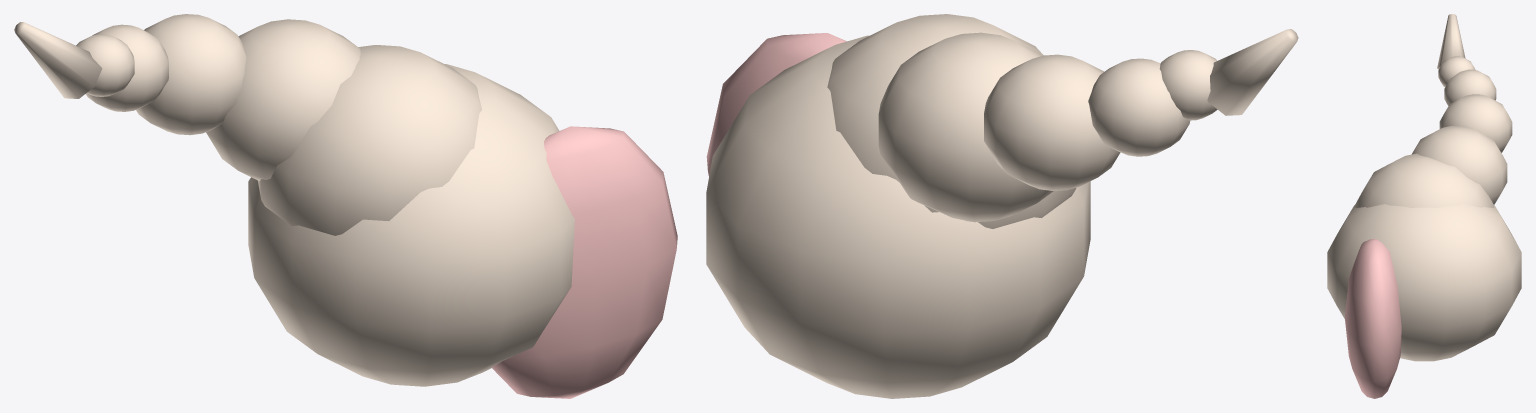
Rendered from shell.glb.
3 views of the same model, side by side, from view 1: azimuth 30°, elevation 25°; view 2: azimuth 150°, elevation 25°; view 3: azimuth 270°, elevation 25° (orthographic). The views are drawn at different scales.
Parts seen in each view (by area): view 1: shell; view 2: shell; view 3: shell.
Part boxes in pixels (x1=…): shell: x1=14, y1=14, x2=677, y2=398; shell: x1=706, y1=14, x2=1298, y2=398; shell: x1=1327, y1=14, x2=1521, y2=398.
Size of the model in its own units: 0.3873 by 0.2762 by 0.195.
